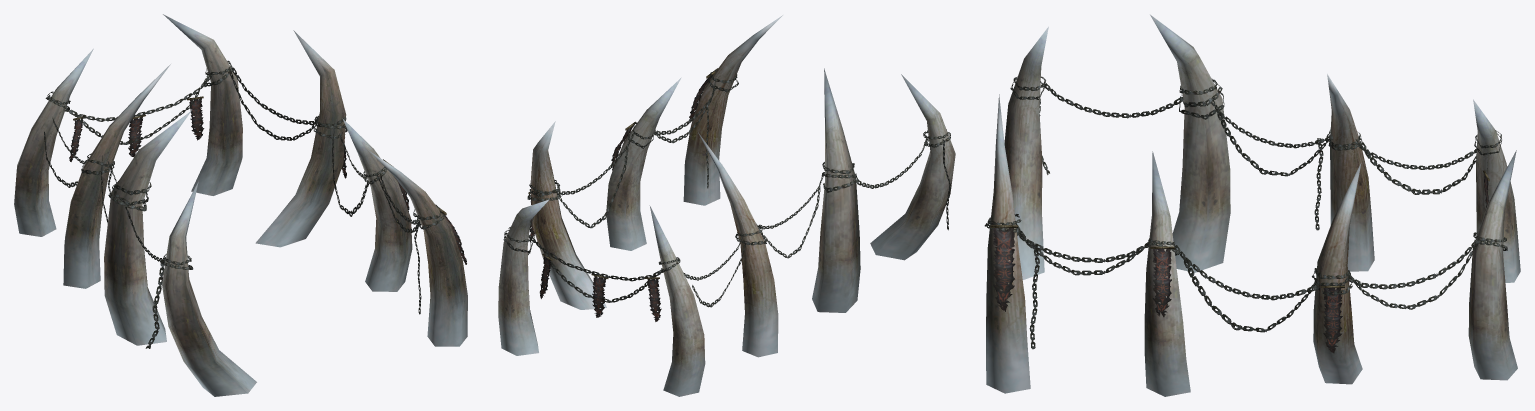
Rendered from rzjd_gu_01.FBX.
The picture shows the model from 3 angles, left to right: view 1: azimuth 30°, elevation 25°; view 2: azimuth 150°, elevation 25°; view 3: azimuth 270°, elevation 25°; orthographic projection. The views are drawn at different scales.
Visible parts, largest first — view 1: rzjd_gu_01; view 2: rzjd_gu_01; view 3: rzjd_gu_01.
Part boxes in pixels (x1,y1,x2,y2): rzjd_gu_01: (14, 14, 467, 396); rzjd_gu_01: (498, 15, 955, 396); rzjd_gu_01: (984, 14, 1520, 396).
Size of the model in its own units: 1901 by 2399 by 1302.
